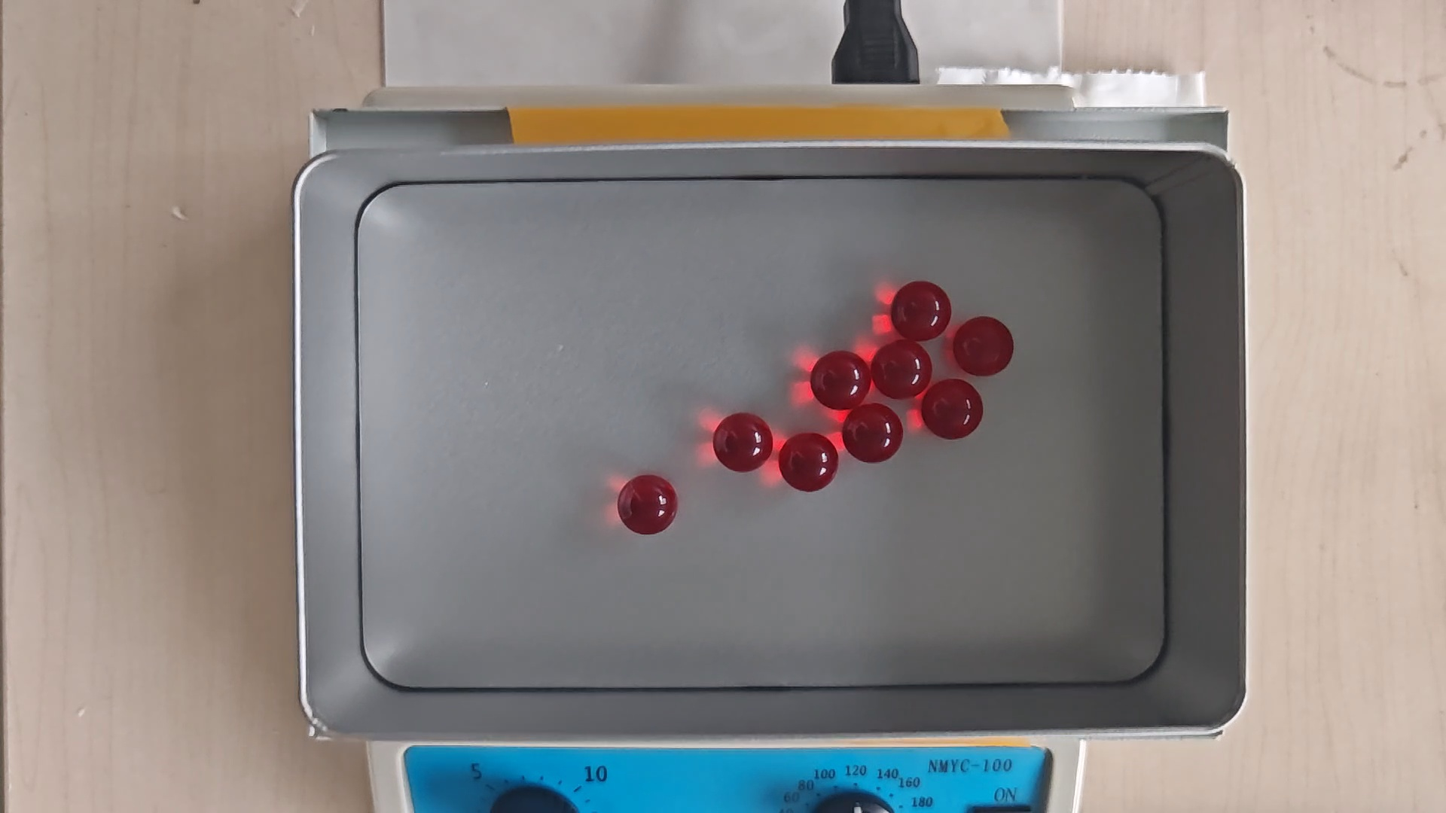ball: (777, 431, 840, 494), (921, 379, 984, 441), (808, 350, 871, 411), (953, 316, 1014, 379), (618, 473, 678, 536), (841, 405, 904, 465), (712, 412, 773, 473), (891, 281, 951, 342), (871, 341, 932, 400)
container: (355, 177, 1169, 685)
